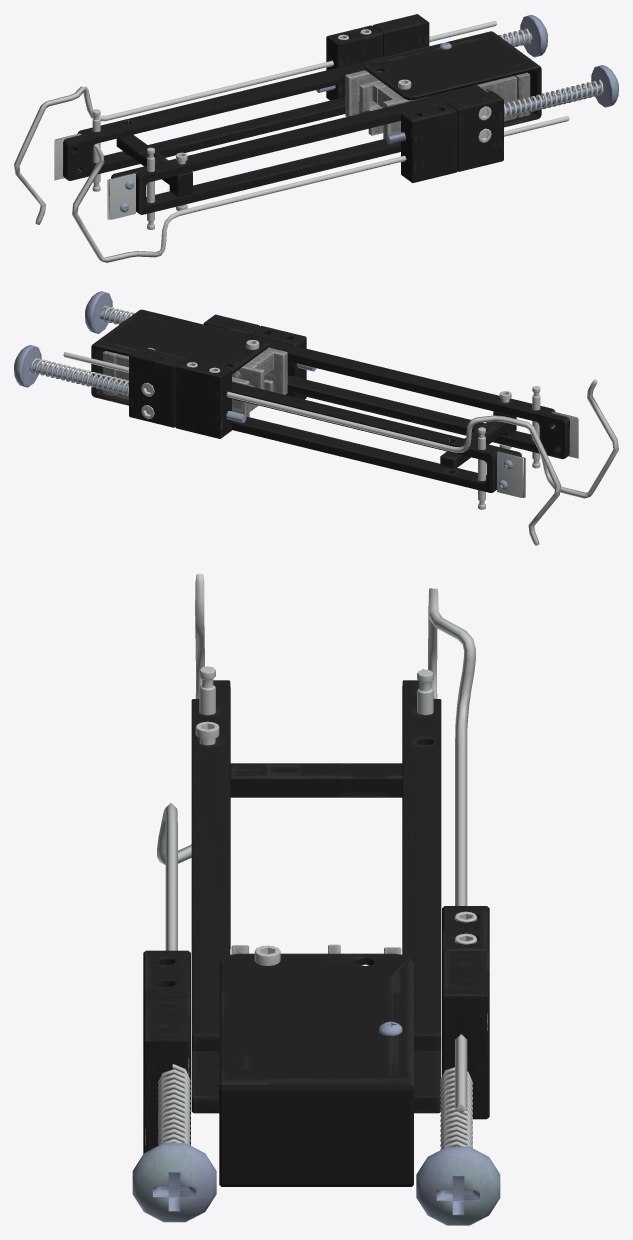
File: extenz.fbx
3 views of the same model, one above another, from view 1: azimuth 30°, elevation 25°; view 2: azimuth 150°, elevation 25°; view 3: azimuth 270°, elevation 25° (orthographic). The views are drawn at different scales.
Parts seen in each view (by area): view 1: Экстензометр; view 2: Экстензометр; view 3: Экстензометр.
Boxes of the visible parts, left/top/right/bottom form: Экстензометр: left=14, top=14, right=618, bottom=262; Экстензометр: left=14, top=291, right=618, bottom=545; Экстензометр: left=132, top=574, right=500, bottom=1225.
Size of the model in its own units: 19.46 by 4.29 by 5.8.
